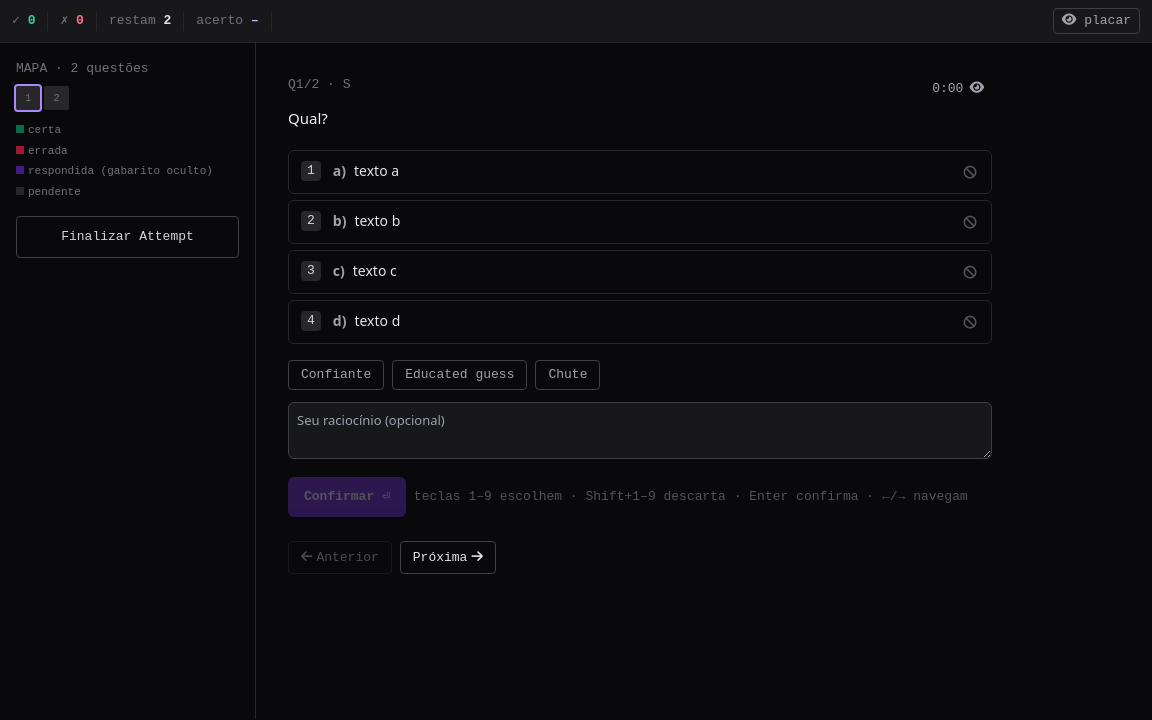
Scenario: balão de comentário › Esc fecha sem apagar o descarte; sem motivo aparece o convite a comentar
Expected: the text "texto a" is shown, [354,161,399,180]
Click the button named "Descartar alternativa d". click: click(970, 322)
box: [956,308,984,336]
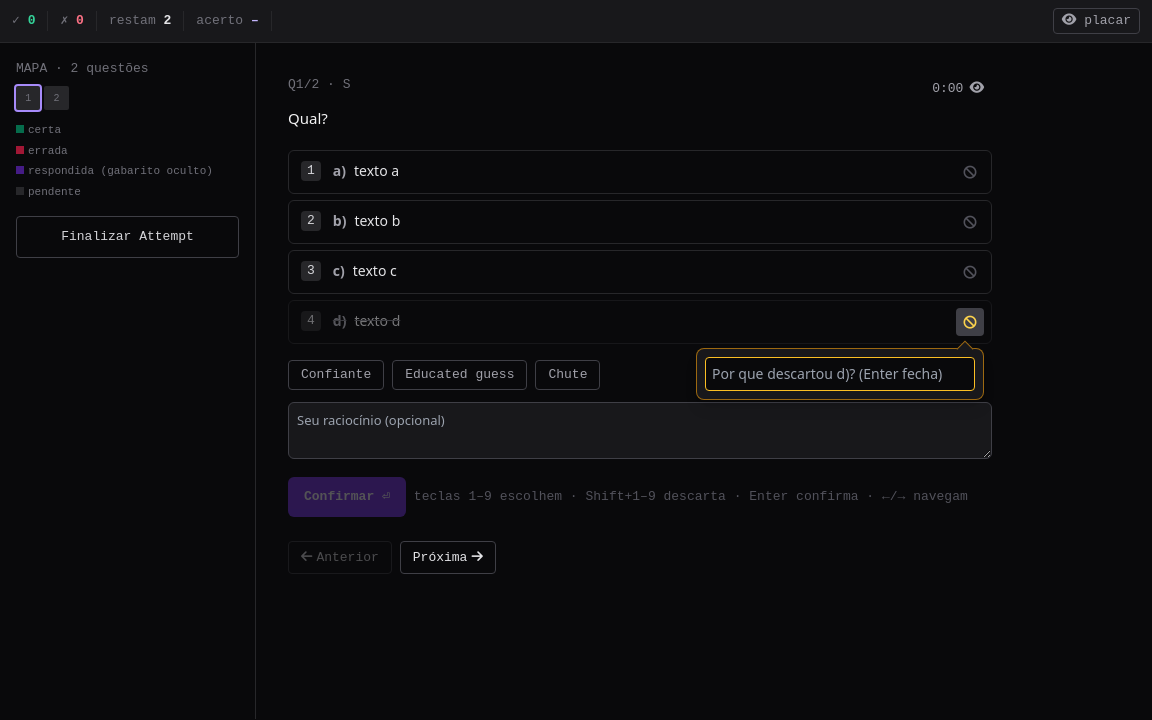
Expected: the field with placeholder "Por que descartou d)? (Enter fecha)" is shown, [705,357,975,391]
Press Escape
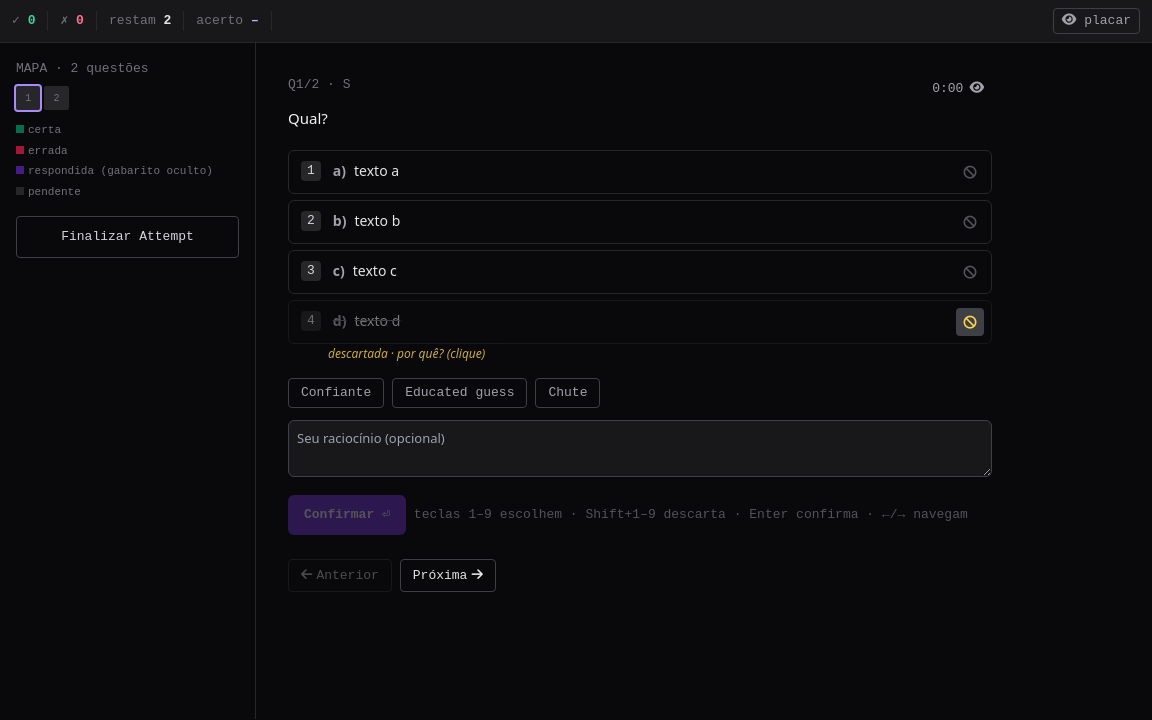
Expected: the field with placeholder "Por que descartou" is not shown
Expected: the button "descartada · por quê? (clique)" is shown, [328,346,485,362]
